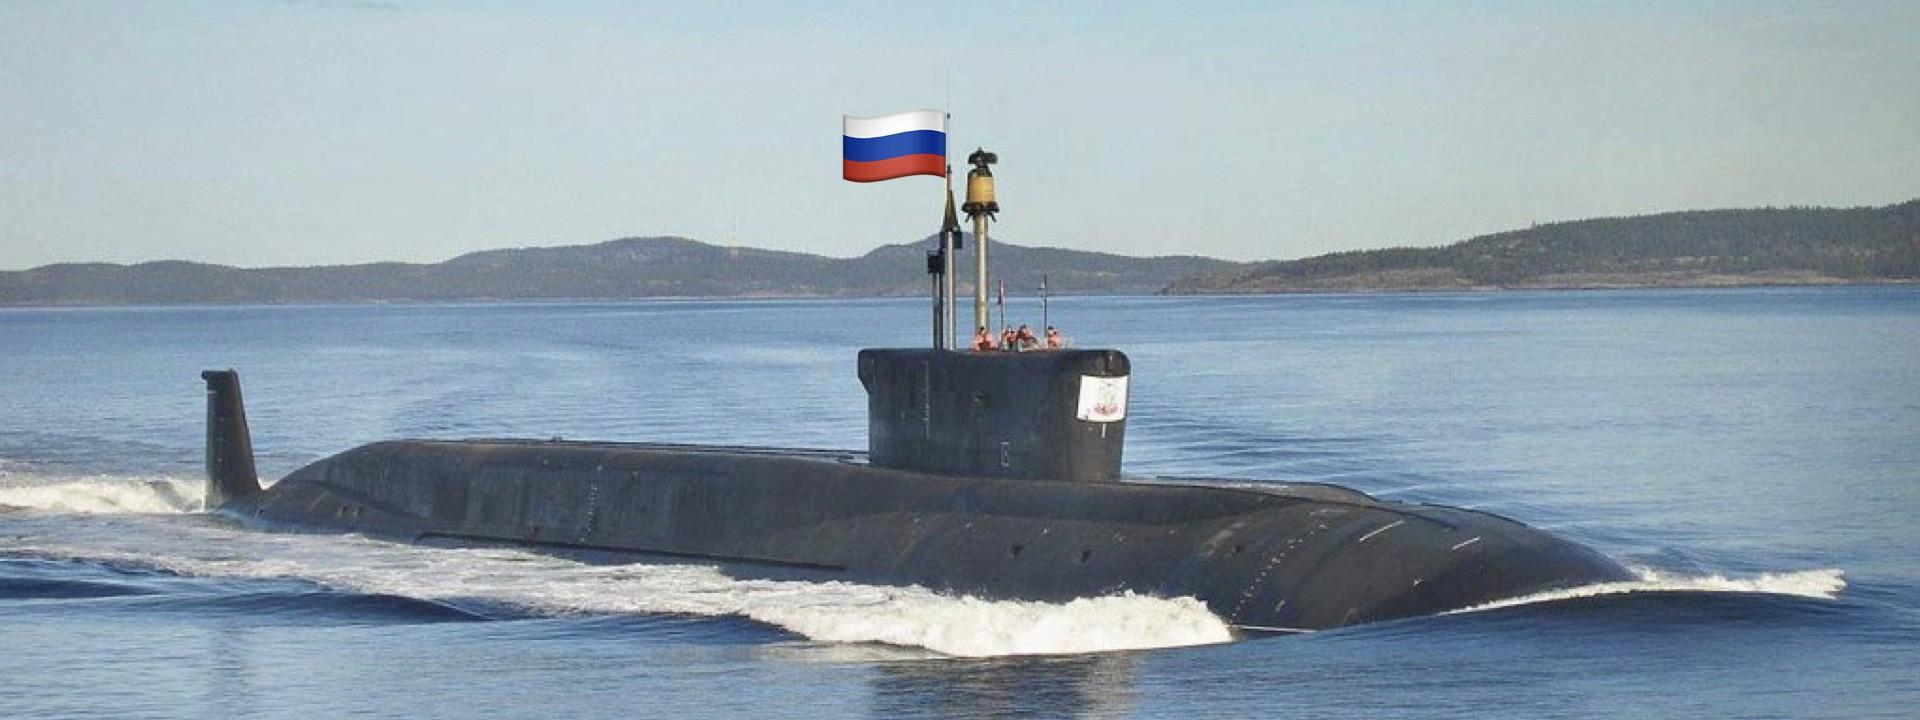Submarine: (53, 38, 1920, 720)
